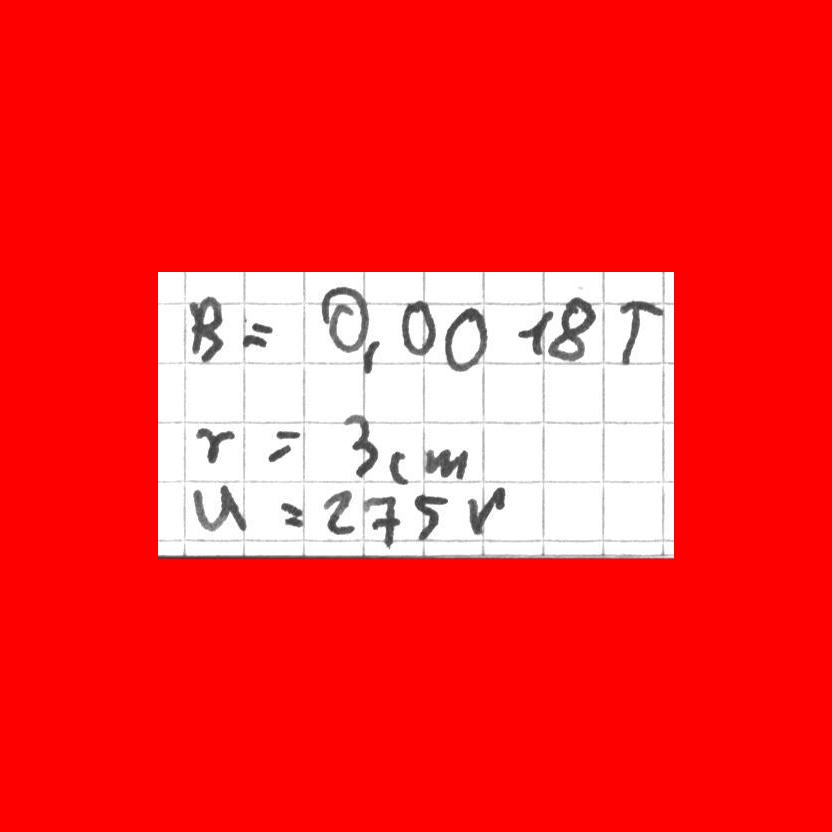Char: (317, 282, 371, 355), (615, 292, 666, 369), (191, 477, 252, 536), (443, 303, 492, 372), (546, 294, 596, 361), (186, 290, 228, 367), (339, 409, 383, 482), (359, 489, 405, 553), (463, 484, 509, 542), (398, 296, 441, 358), (409, 489, 445, 551), (423, 443, 473, 486), (319, 483, 357, 538), (194, 419, 236, 468), (518, 307, 554, 359), (263, 426, 306, 464), (240, 315, 277, 351), (273, 494, 308, 532), (388, 446, 414, 490), (358, 339, 386, 375)
